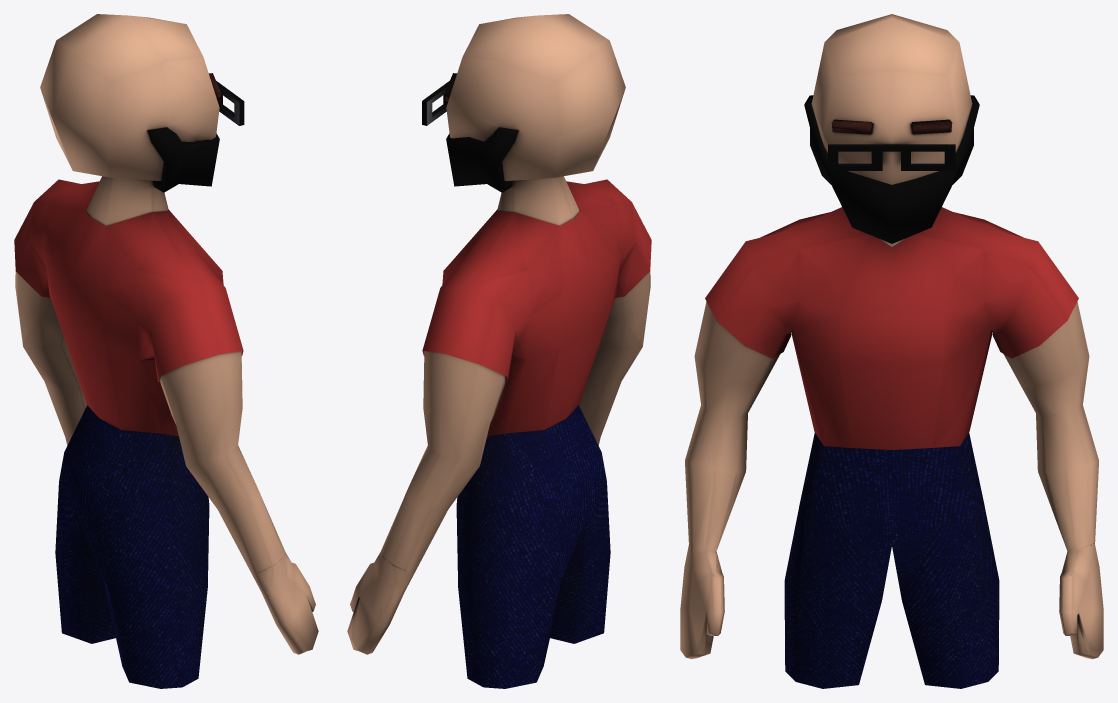
File: RoyTEX.glb
The picture shows the model from 3 angles, left to right: view 1: azimuth 30°, elevation 25°; view 2: azimuth 150°, elevation 25°; view 3: azimuth 270°, elevation 25°; orthographic projection. The views are drawn at different scales.
Visible parts, largest first — view 1: PANTALON, CAMISA, CUERPO, CABEZA, BARBA, pCube3; view 2: PANTALON, CAMISA, CUERPO, CABEZA, BARBA, pCube3; view 3: CAMISA, PANTALON, CUERPO, CABEZA, BARBA, pCube3, CEJAS.
Part boxes in pixels (x1,y1,x2,y2): PANTALON: [55, 405, 209, 688]; CAMISA: [14, 179, 243, 436]; CUERPO: [15, 176, 318, 654]; CABEZA: [40, 14, 219, 180]; BARBA: [147, 127, 219, 192]; pCube3: [216, 81, 244, 125]; PANTALON: [456, 405, 610, 688]; CAMISA: [422, 179, 651, 436]; CUERPO: [347, 176, 650, 654]; CABEZA: [446, 14, 625, 180]; BARBA: [446, 127, 518, 192]; pCube3: [422, 81, 449, 125]; CAMISA: [705, 207, 1078, 449]; PANTALON: [784, 432, 999, 688]; CUERPO: [680, 239, 1103, 659]; CABEZA: [811, 14, 972, 184]; BARBA: [804, 95, 979, 243]; pCube3: [828, 144, 955, 170]; CEJAS: [831, 119, 952, 134].
Size of the model in its own units: 1.01 by 3.44 by 2.03.
1 material, 1 textured.
